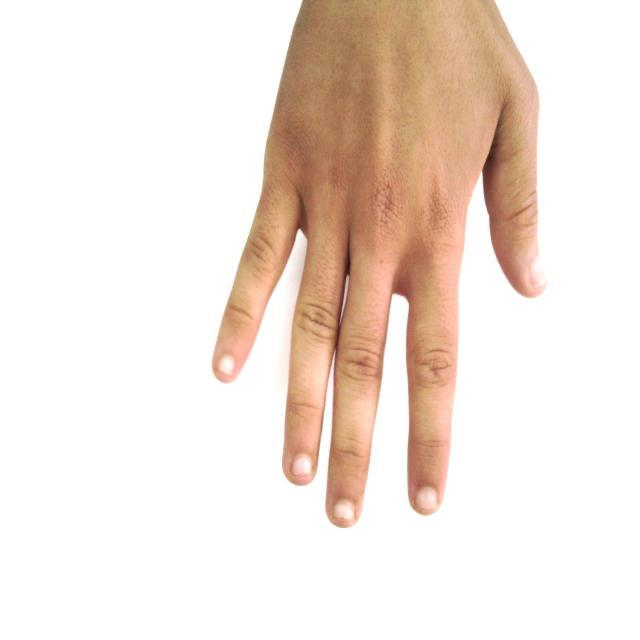Fingernail: (416, 487, 437, 512), (334, 501, 355, 524), (293, 456, 312, 478), (531, 260, 546, 287), (219, 356, 234, 376)
